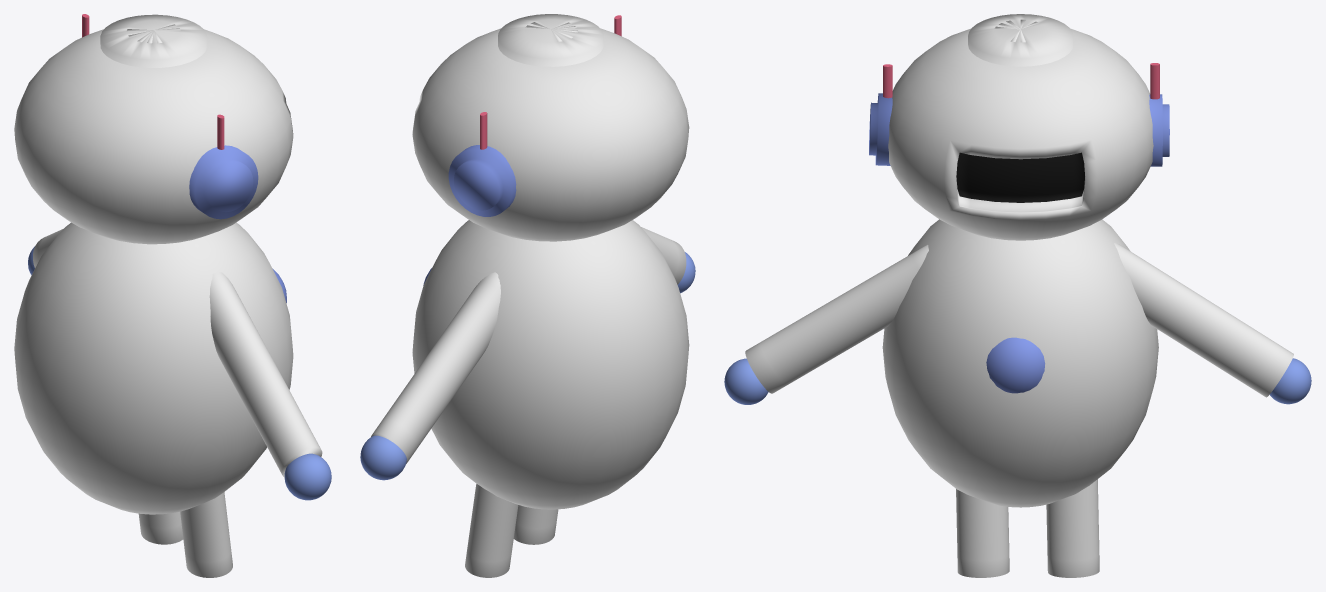
Rendered from robotcoloré.fbx.
3 renders of one model, left to right at view 1: azimuth 30°, elevation 25°; view 2: azimuth 150°, elevation 25°; view 3: azimuth 270°, elevation 25°, orthographic.
Visible parts, largest first — view 1: Sphere.001, Sphere, Cylinder.002, Cylinder.005, Cylinder.003, Sphere.003, Cylinder.001; view 2: Sphere.001, Sphere, Cylinder.008, Cylinder.004, Cylinder.001, Sphere.002, Cylinder.003, Cylinder.002; view 3: Sphere.001, Sphere, Cylinder.008, Cylinder.002, Cylinder.001, Cylinder.003, Sphere.004, Sphere.003, Cylinder.005, Sphere.002, Cylinder.004.
Part boxes in pixels (box(x1,y1,x2,y2)): Sphere.001: box(14, 222, 293, 514); Sphere: box(14, 14, 293, 244); Cylinder.002: box(209, 272, 322, 477); Cylinder.005: box(189, 145, 258, 219); Cylinder.003: box(180, 492, 232, 577); Sphere.003: box(284, 453, 331, 500); Cylinder.001: box(138, 511, 183, 544); Sphere.001: box(412, 220, 689, 509); Sphere: box(412, 14, 689, 241); Cylinder.008: box(371, 272, 500, 463); Cylinder.004: box(448, 145, 516, 216); Cylinder.001: box(465, 484, 518, 577); Sphere.002: box(360, 435, 406, 480); Cylinder.003: box(513, 505, 558, 544); Cylinder.002: box(641, 227, 686, 284); Sphere.001: box(882, 219, 1158, 507); Sphere: box(888, 14, 1153, 240); Cylinder.008: box(1114, 242, 1293, 397); Cylinder.002: box(745, 245, 928, 393); Cylinder.001: box(1046, 479, 1099, 577); Cylinder.003: box(956, 489, 1009, 577); Sphere.004: box(986, 337, 1045, 393); Sphere.003: box(724, 358, 768, 404); Cylinder.005: box(869, 93, 892, 165); Sphere.002: box(1269, 358, 1311, 404); Cylinder.004: box(1149, 94, 1169, 166).
Size of the model in its own units: 204 by 421 by 425.
